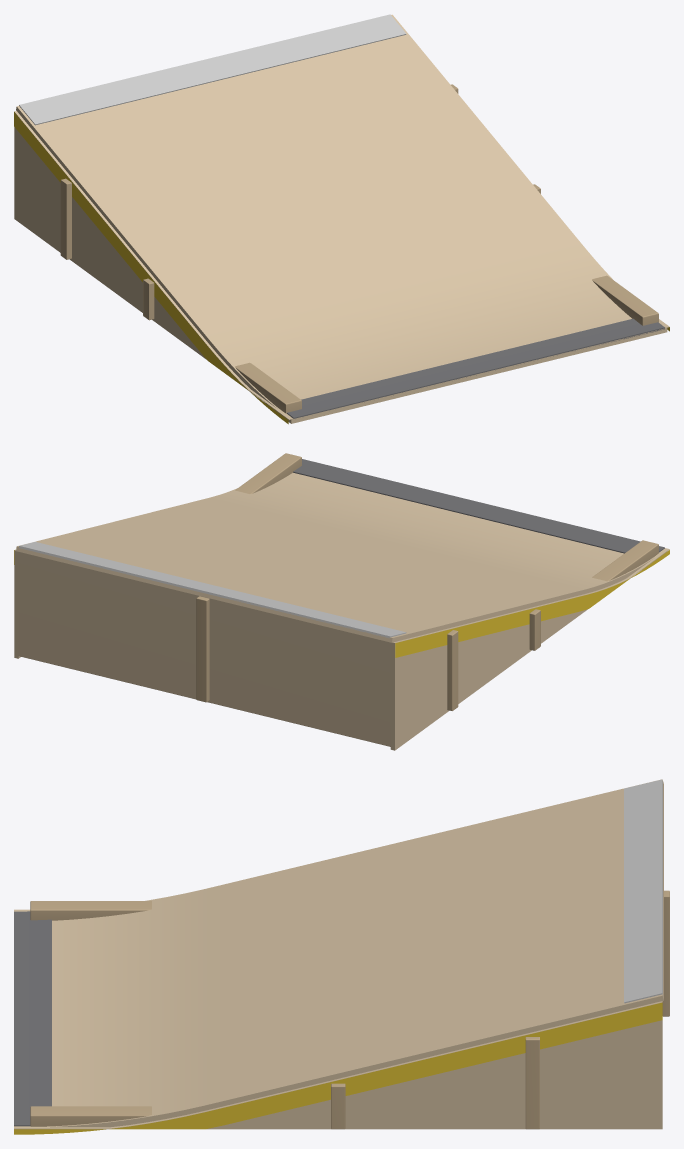
File: ramp_small.glb
The picture shows the model from 3 angles, top to bottom: view 1: azimuth 30°, elevation 25°; view 2: azimuth 150°, elevation 25°; view 3: azimuth 270°, elevation 25°; orthographic projection. The views are drawn at different scales.
Visible parts, largest first — view 1: SM_ramp_small; view 2: SM_ramp_small; view 3: SM_ramp_small.
Boxes of the visible parts, box(x1,y1,x2,y2) form: SM_ramp_small: box(14, 14, 669, 424); SM_ramp_small: box(14, 453, 669, 750); SM_ramp_small: box(14, 779, 669, 1134).
Bounding box in the file's own units: 1.65 × 0.4719 × 2.02.
